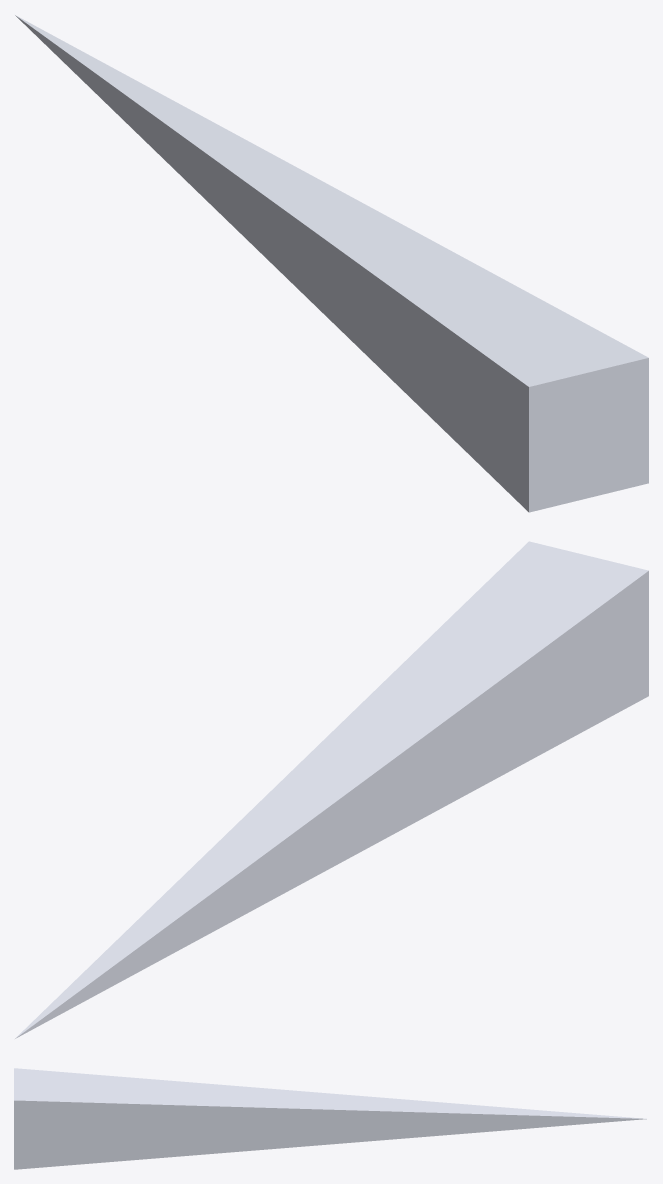
3 views of the same model, one above another, from view 1: azimuth 30°, elevation 25°; view 2: azimuth 150°, elevation 25°; view 3: azimuth 270°, elevation 25° (orthographic). The views are drawn at different scales.
Visible parts, largest first — view 1: mergedBlocks(Clone); view 2: mergedBlocks(Clone); view 3: mergedBlocks(Clone).
Part boxes in pixels (bbox=[...]): mergedBlocks(Clone): bbox=[15, 15, 648, 512]; mergedBlocks(Clone): bbox=[15, 541, 648, 1038]; mergedBlocks(Clone): bbox=[14, 1068, 646, 1169].
Size of the model in its own units: 1 by 1 by 8.3.
Materials: 1 (1 with a texture image).
